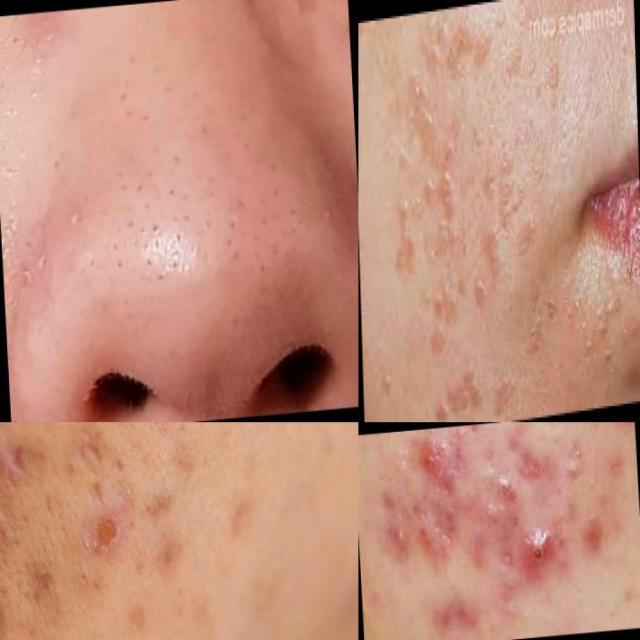Pimples: (131, 210, 185, 289), (434, 585, 486, 640), (519, 526, 563, 590), (102, 215, 148, 272), (159, 146, 196, 212), (219, 214, 264, 266), (410, 442, 453, 486), (114, 162, 159, 200), (50, 200, 94, 238), (380, 516, 408, 555), (314, 195, 336, 242), (498, 472, 520, 504)
